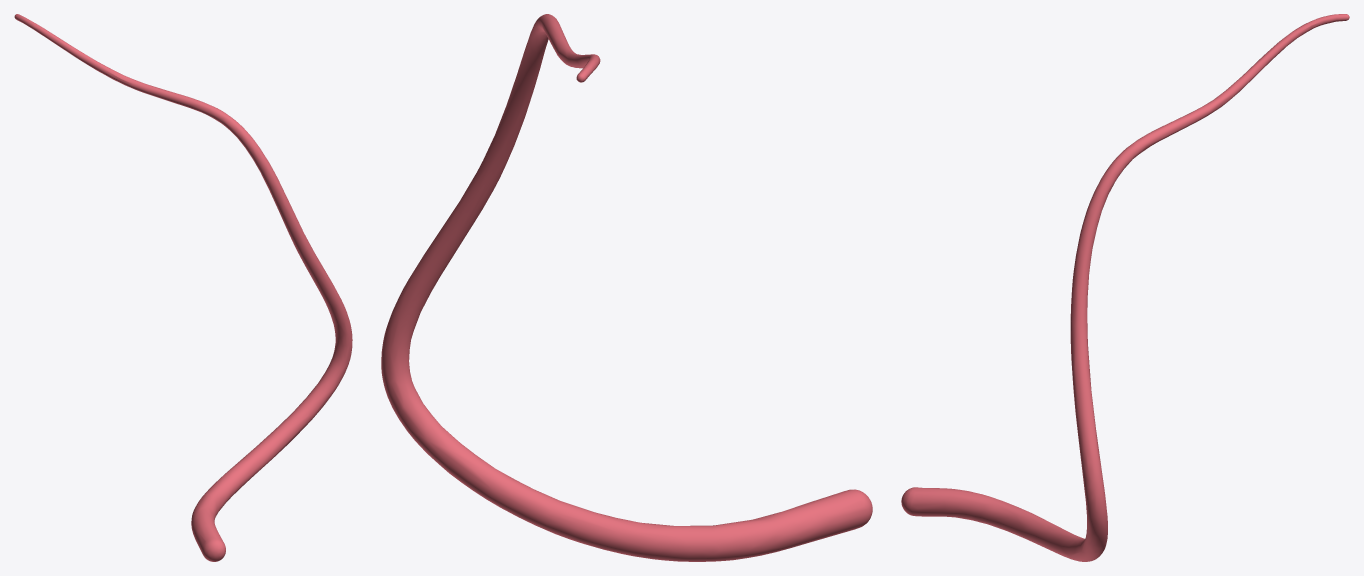
File: fma50484_fj1666m.glb
The picture shows the model from 3 angles, left to right: view 1: azimuth 30°, elevation 25°; view 2: azimuth 150°, elevation 25°; view 3: azimuth 270°, elevation 25°; orthographic projection. The views are drawn at different scales.
Visible parts, largest first — view 1: FMA50484_FJ1666M; view 2: FMA50484_FJ1666M; view 3: FMA50484_FJ1666M.
Boxes of the visible parts, x1,y1,x2,y2 form: FMA50484_FJ1666M: (14,14,352,561); FMA50484_FJ1666M: (381,14,872,561); FMA50484_FJ1666M: (901,14,1349,561).
Size of the model in its own units: 0.0216 by 0.0374 by 0.0308.
